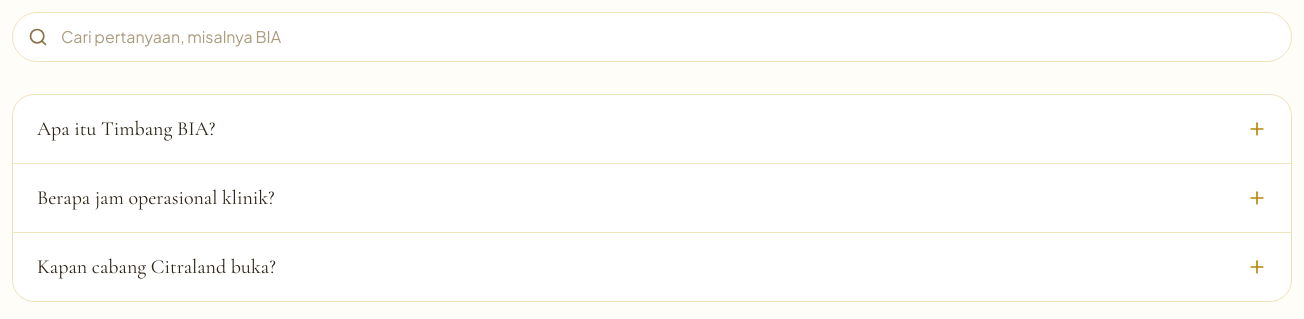
Test: FaqList › menyaring pertanyaan saat mengetik
Type "bia" into the search field labelled "Cari pertanyaan" at (652, 37), box [12,12,1292,62]
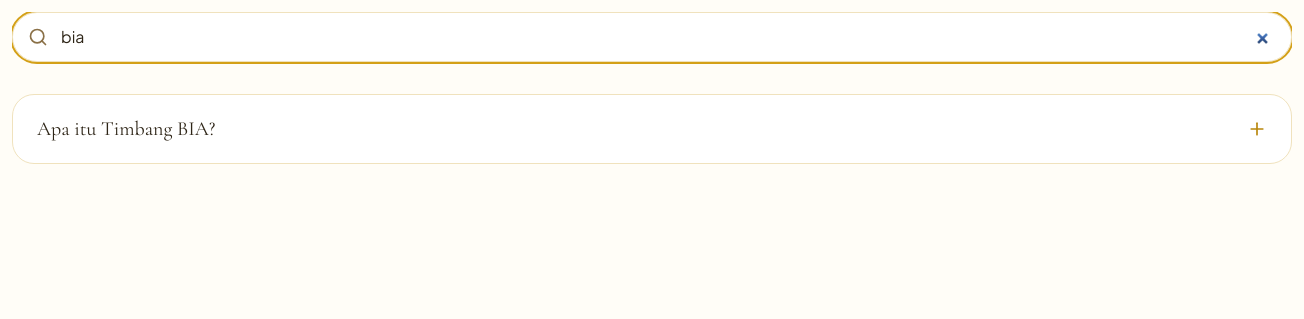
Expected: the buttons read "Apa itu Timbang BIA?", in this order, [13,95,1291,163]
